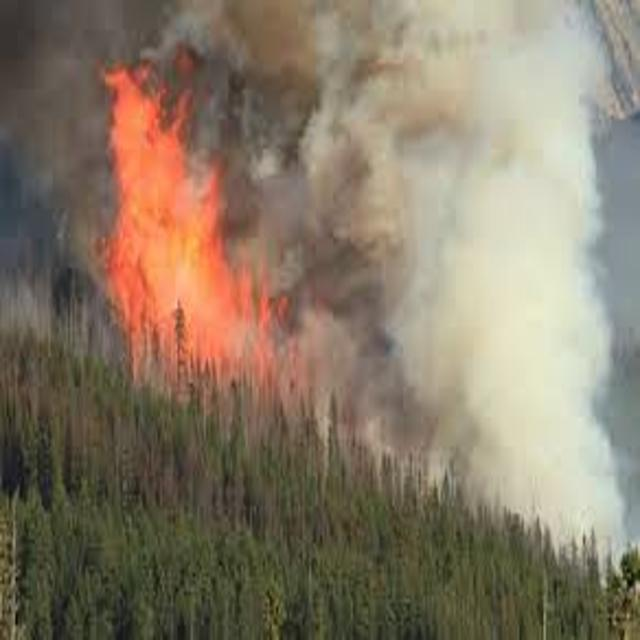Fire: (97, 61, 289, 416)
Smoke: (291, 0, 640, 566), (0, 61, 91, 352), (0, 0, 301, 61)
